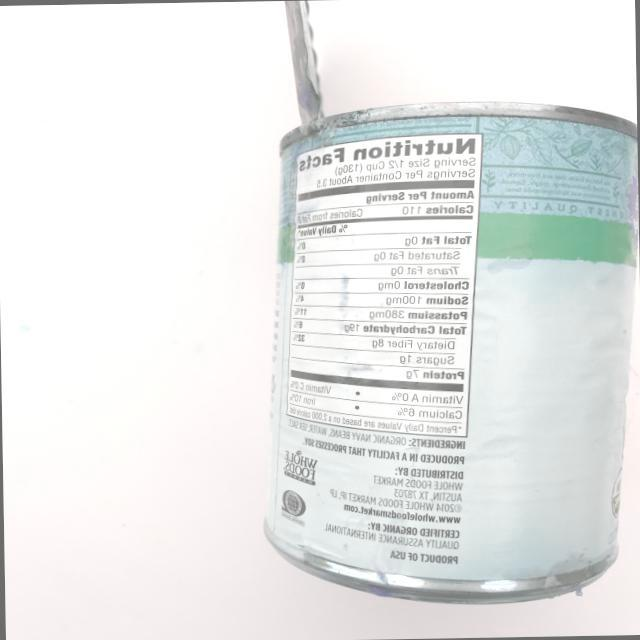metal: (225, 0, 640, 620)
